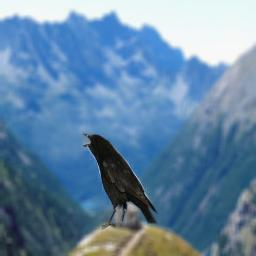Crow: (81, 131, 159, 230)
